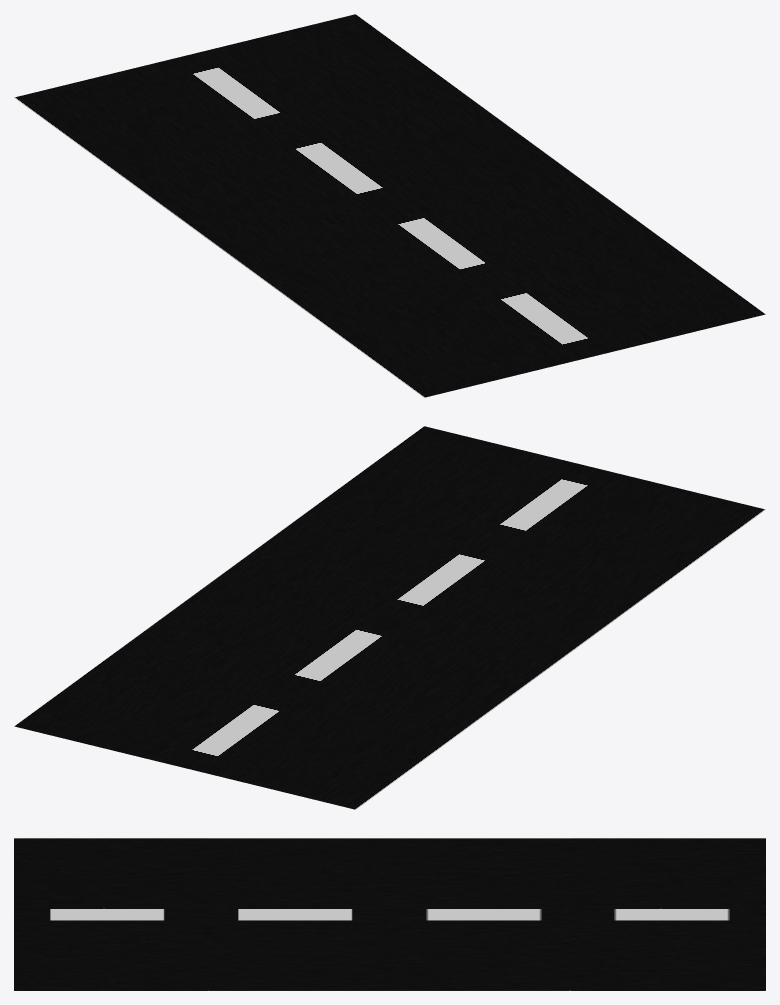
File: Road_Straight.fbx
3 views of the same model, one above another, from view 1: azimuth 30°, elevation 25°; view 2: azimuth 150°, elevation 25°; view 3: azimuth 270°, elevation 25° (orthographic). The views are drawn at different scales.
Parts seen in each view (by area): view 1: polySurface5; view 2: polySurface5; view 3: polySurface5.
Part boxes in pixels (x1,y1,x2,y2): polySurface5: (14, 14, 765, 397); polySurface5: (14, 426, 765, 809); polySurface5: (14, 838, 765, 990).
Size of the model in its own units: 33.44 by 0 by 69.5.
1 material, 1 textured.
